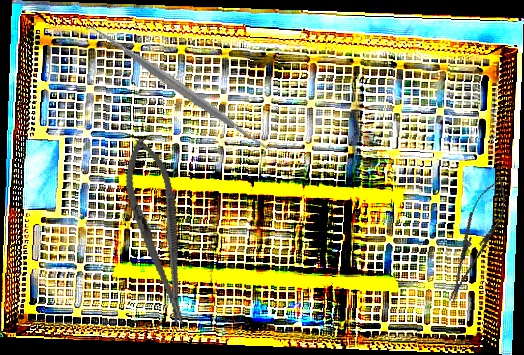Needle Holder: (115, 134, 202, 330), (436, 170, 516, 309)
Spatula Surgical: (82, 13, 281, 164)
